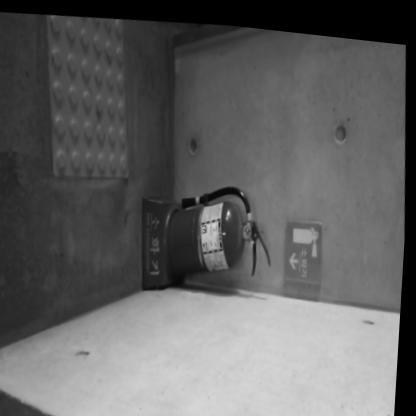FE: (138, 170, 277, 296)
